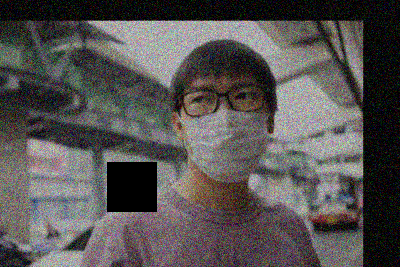with_mask: (181, 77, 270, 184)
